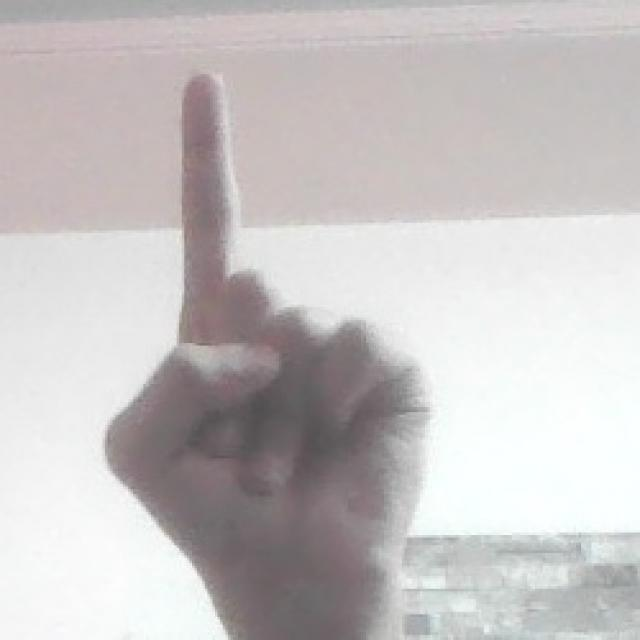Numeric-1: (99, 70, 425, 630)
